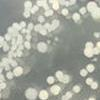white: (25, 87, 38, 100), (13, 66, 23, 80), (45, 75, 56, 86), (37, 42, 48, 53), (50, 84, 60, 96), (86, 1, 96, 13), (91, 8, 100, 21), (60, 74, 71, 84), (49, 18, 59, 29), (39, 89, 48, 100), (71, 13, 80, 24), (86, 63, 95, 73), (72, 84, 81, 94), (83, 49, 92, 58), (50, 2, 59, 11), (84, 41, 94, 49), (90, 46, 98, 56), (80, 68, 88, 77), (55, 70, 63, 79), (90, 83, 99, 91), (10, 60, 19, 68), (38, 26, 46, 35), (46, 24, 54, 33), (66, 0, 78, 6), (7, 71, 14, 81), (79, 6, 86, 16), (61, 8, 69, 16), (37, 15, 45, 23), (31, 5, 39, 13), (42, 23, 50, 31), (23, 10, 31, 18), (24, 1, 32, 9), (4, 33, 11, 42), (58, 0, 67, 7), (86, 76, 92, 86), (92, 31, 100, 38), (3, 44, 10, 52), (7, 26, 14, 34), (26, 22, 33, 30), (24, 34, 31, 42), (8, 52, 15, 60), (95, 42, 100, 53), (44, 10, 53, 16), (25, 41, 31, 50), (10, 36, 16, 45), (36, 1, 46, 6), (65, 91, 72, 98), (2, 57, 9, 64), (24, 28, 31, 35), (0, 82, 6, 90), (0, 36, 4, 48), (13, 22, 19, 30), (34, 24, 40, 32), (0, 74, 6, 81), (10, 46, 16, 53), (87, 96, 97, 100), (4, 66, 12, 71), (48, 0, 58, 4), (15, 25, 21, 31), (17, 34, 23, 40), (18, 40, 24, 46), (16, 50, 22, 56), (43, 4, 49, 10), (0, 62, 5, 69), (61, 96, 69, 100), (46, 40, 52, 45), (53, 36, 58, 42), (92, 57, 98, 62), (19, 45, 25, 50), (19, 22, 25, 27), (0, 68, 4, 75), (21, 28, 25, 34)
